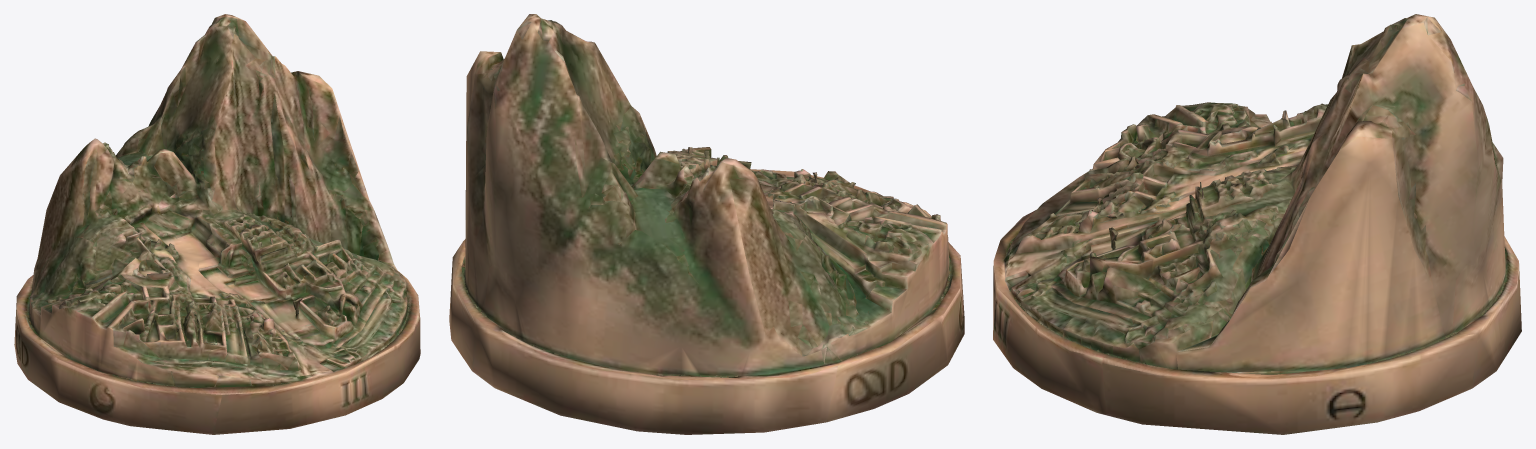
File: machu_picchu_bronze.glb
3 renders of one model, left to right at view 1: azimuth 30°, elevation 25°; view 2: azimuth 150°, elevation 25°; view 3: azimuth 270°, elevation 25°, orthographic. The views are drawn at different scales.
Visible parts, largest first — view 1: Mesh_0; view 2: Mesh_0; view 3: Mesh_0.
Boxes of the visible parts, x1,y1,x2,y2 form: Mesh_0: (14,14,420,434); Mesh_0: (449,14,964,434); Mesh_0: (993,14,1521,434).
Bounding box in the file's own units: 1.9 × 1.4 × 1.9.
1 material, 1 textured.
